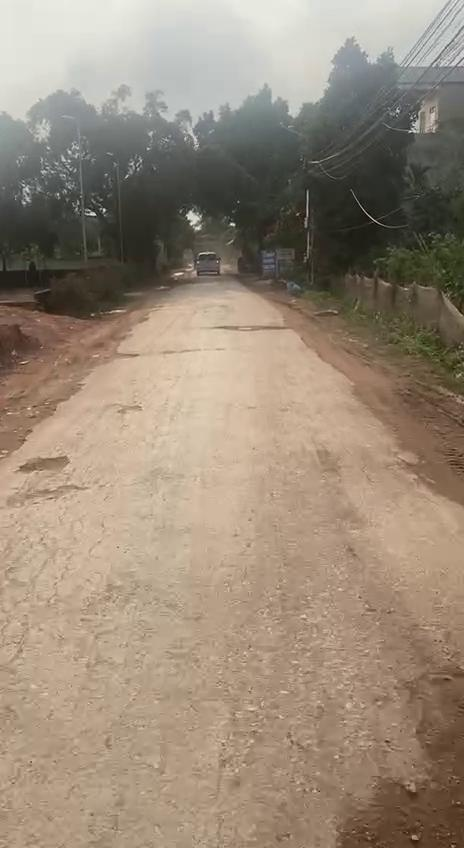pothole: (318, 653, 464, 848)
